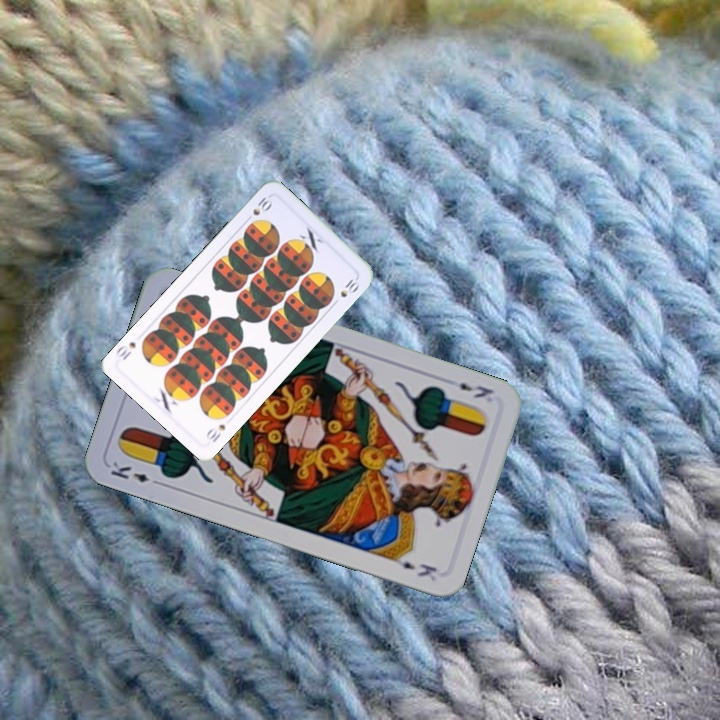EK: (106, 457, 164, 489), (455, 378, 496, 401)
S10: (241, 192, 275, 225), (202, 420, 228, 445)
